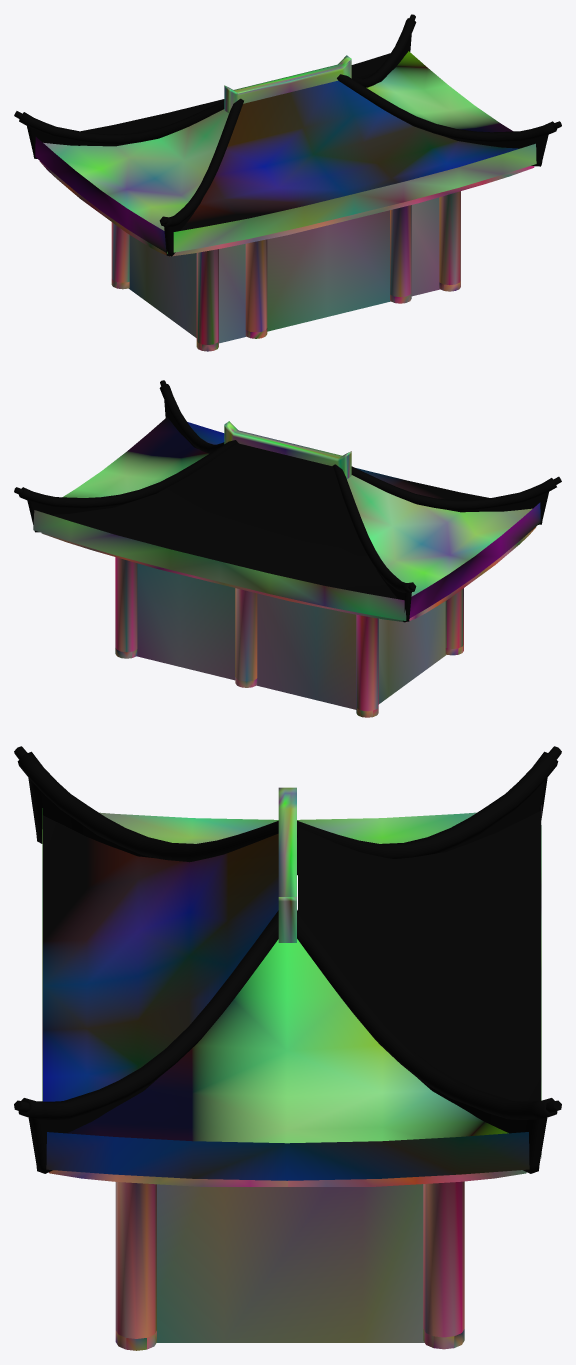
File: CHN_SmallHouse02.gltf
3 renders of one model, top to bottom at view 1: azimuth 30°, elevation 25°; view 2: azimuth 150°, elevation 25°; view 3: azimuth 270°, elevation 25°, orthographic. The views are drawn at different scales.
Parts seen in each view (by area): view 1: CHN_SmallHouse02; view 2: CHN_SmallHouse02; view 3: CHN_SmallHouse02.
Boxes of the visible parts, x1=… form: CHN_SmallHouse02: x1=14, y1=14, x2=561, y2=351; CHN_SmallHouse02: x1=14, y1=380, x2=561, y2=717; CHN_SmallHouse02: x1=14, y1=746, x2=561, y2=1350.
Size of the model in its own units: 12.75 by 6.54 by 8.23.
